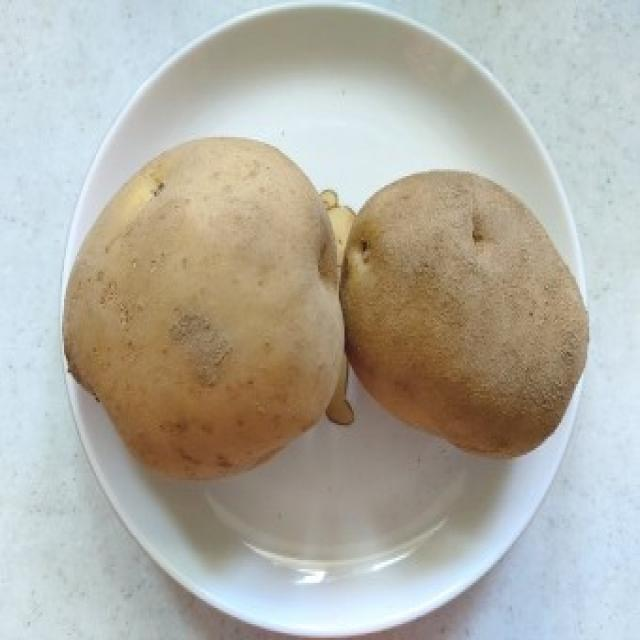potato: (58, 134, 348, 479), (332, 160, 592, 460)
